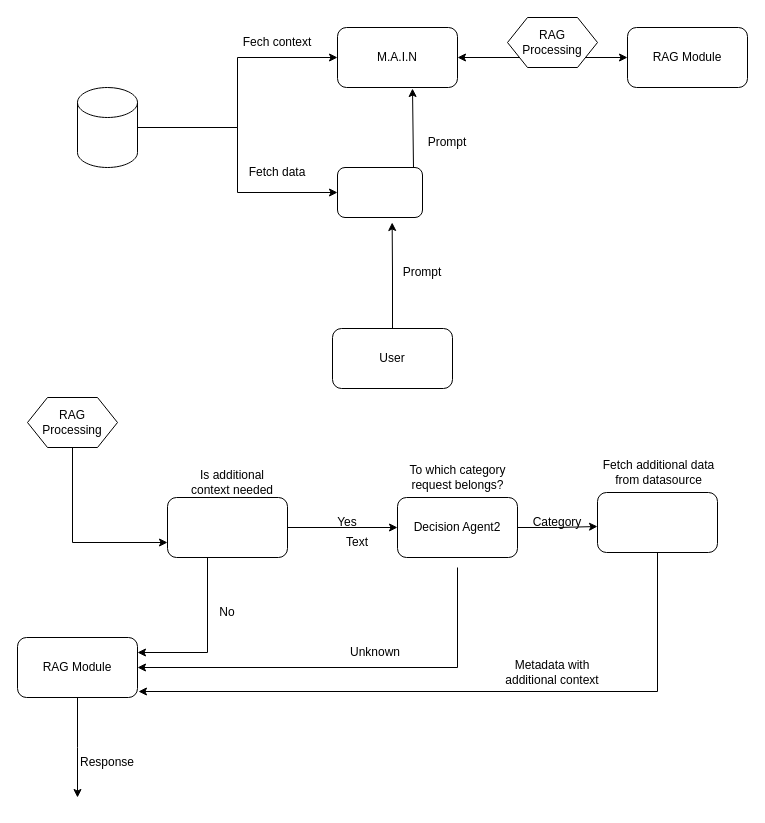
This 765x823 diagram has some shape labels left out. Here are the shapes that lost their labels. From the top down, the box of each, then its label:
(76, 86, 138, 168): Db
(336, 166, 422, 218): Shop
(166, 496, 288, 558): Decision Agent1
(596, 492, 718, 552): Fetch Agent
